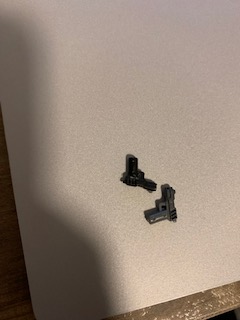pistol: (143, 182, 182, 226), (121, 154, 160, 195)
